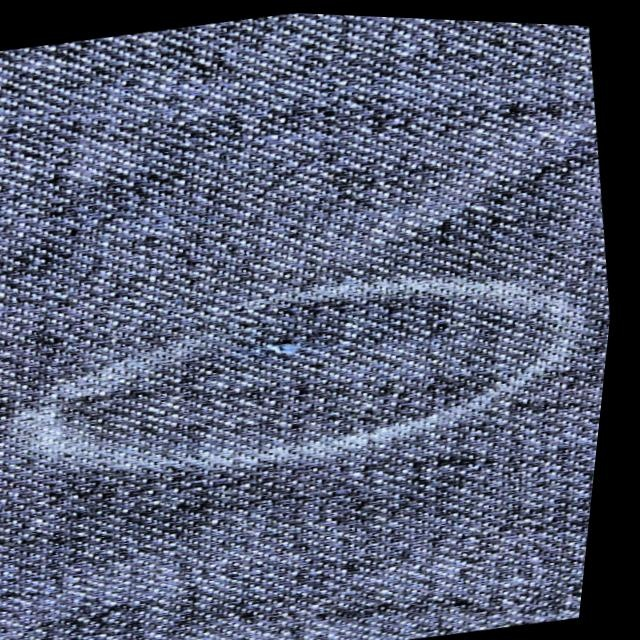Hole: (232, 318, 336, 377)
